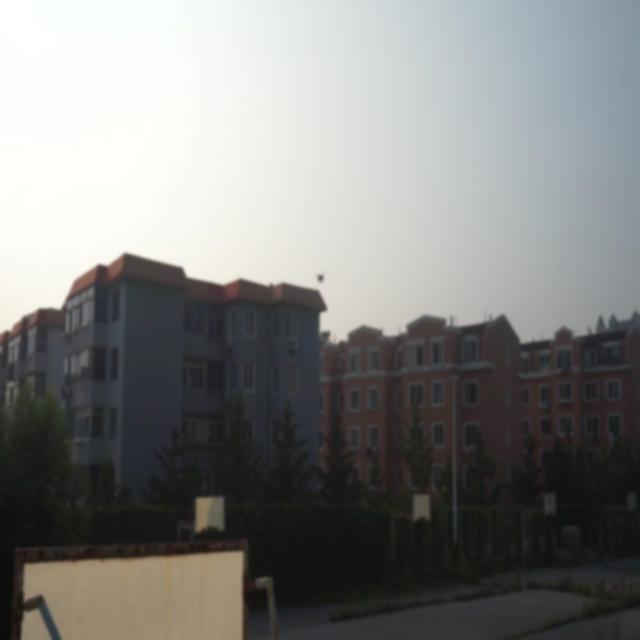UAV: (315, 273, 326, 285)
